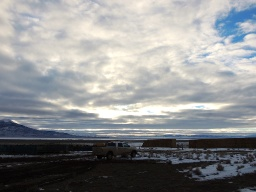car: (91, 138, 142, 160)
